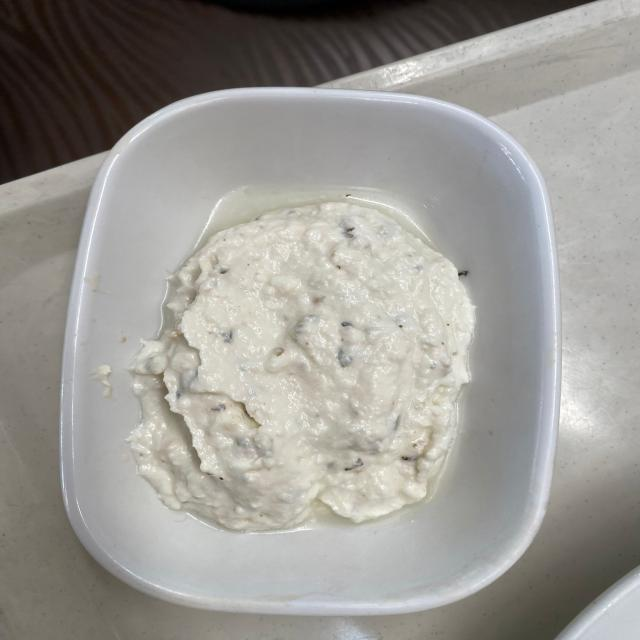yan_yemek: (125, 197, 478, 533)
